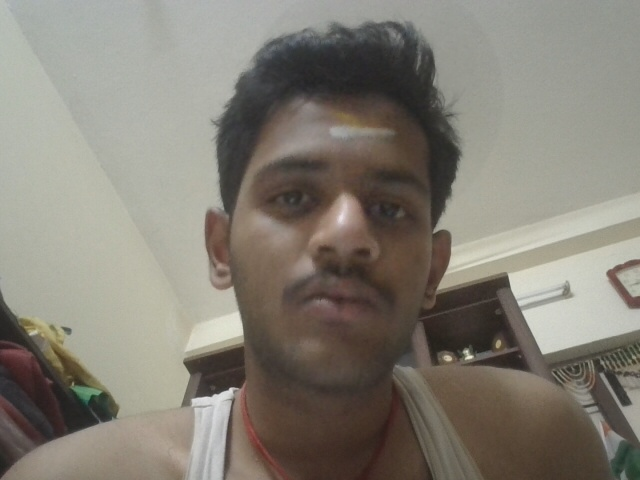real: (205, 86, 476, 357)
